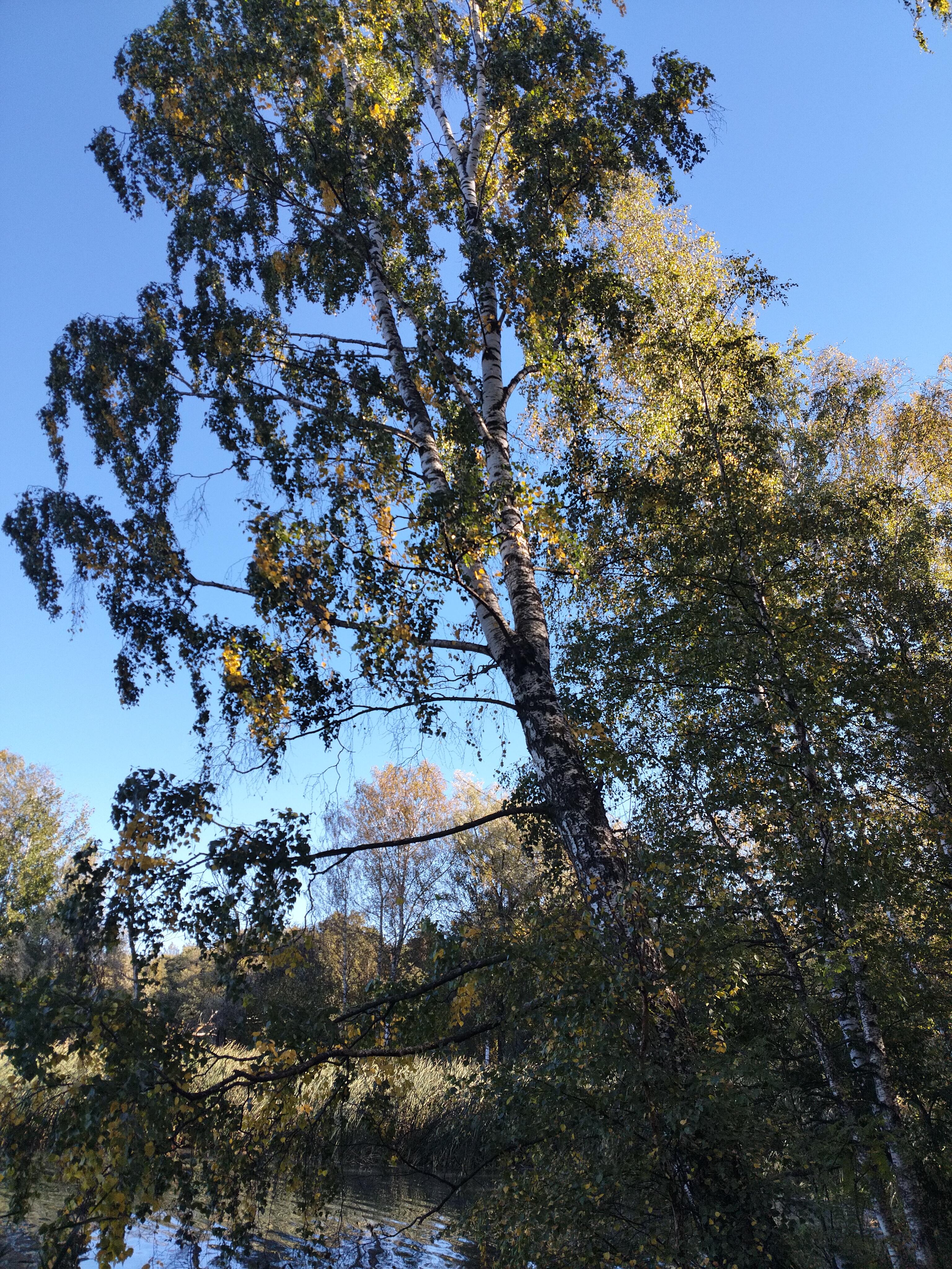Birch: (0, 0, 682, 958)
